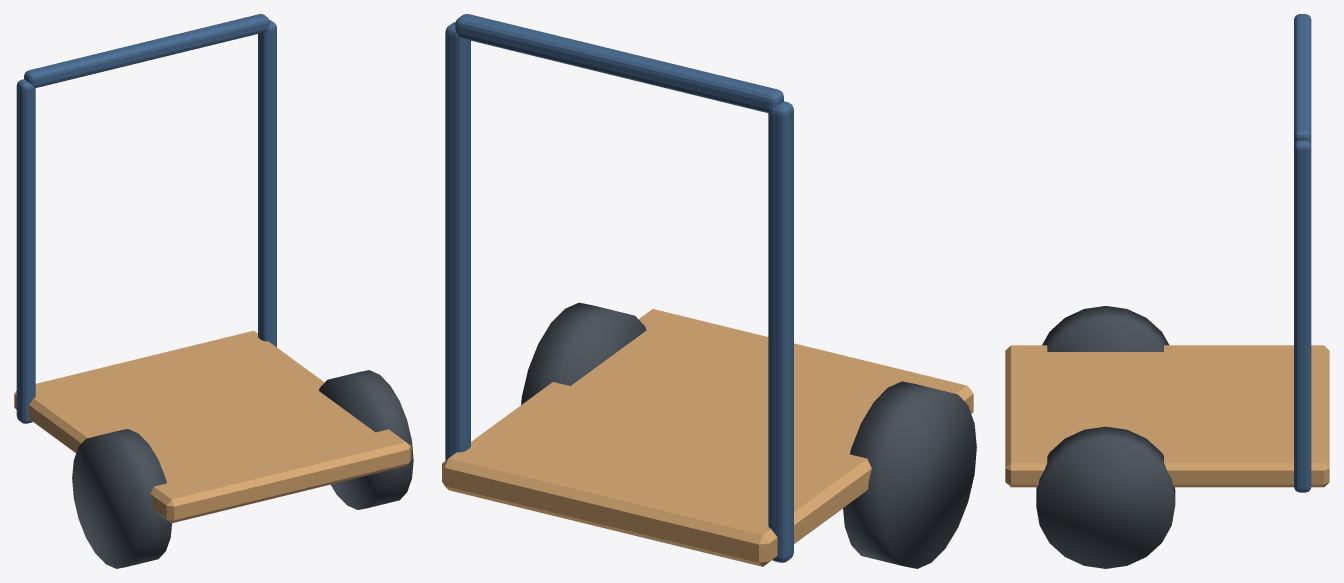
File: handcart.glb
3 views of the same model, side by side, from view 1: azimuth 30°, elevation 25°; view 2: azimuth 150°, elevation 25°; view 3: azimuth 270°, elevation 25° (orthographic). The views are drawn at different scales.
Parts seen in each view (by area): view 1: handcart; view 2: handcart; view 3: handcart.
Boxes of the visible parts, x1,y1,x2,y2 form: handcart: [14, 14, 413, 568]; handcart: [442, 14, 976, 568]; handcart: [1005, 14, 1329, 568].
Bounding box in the file's own units: 0.84 × 1.22 × 0.84.
